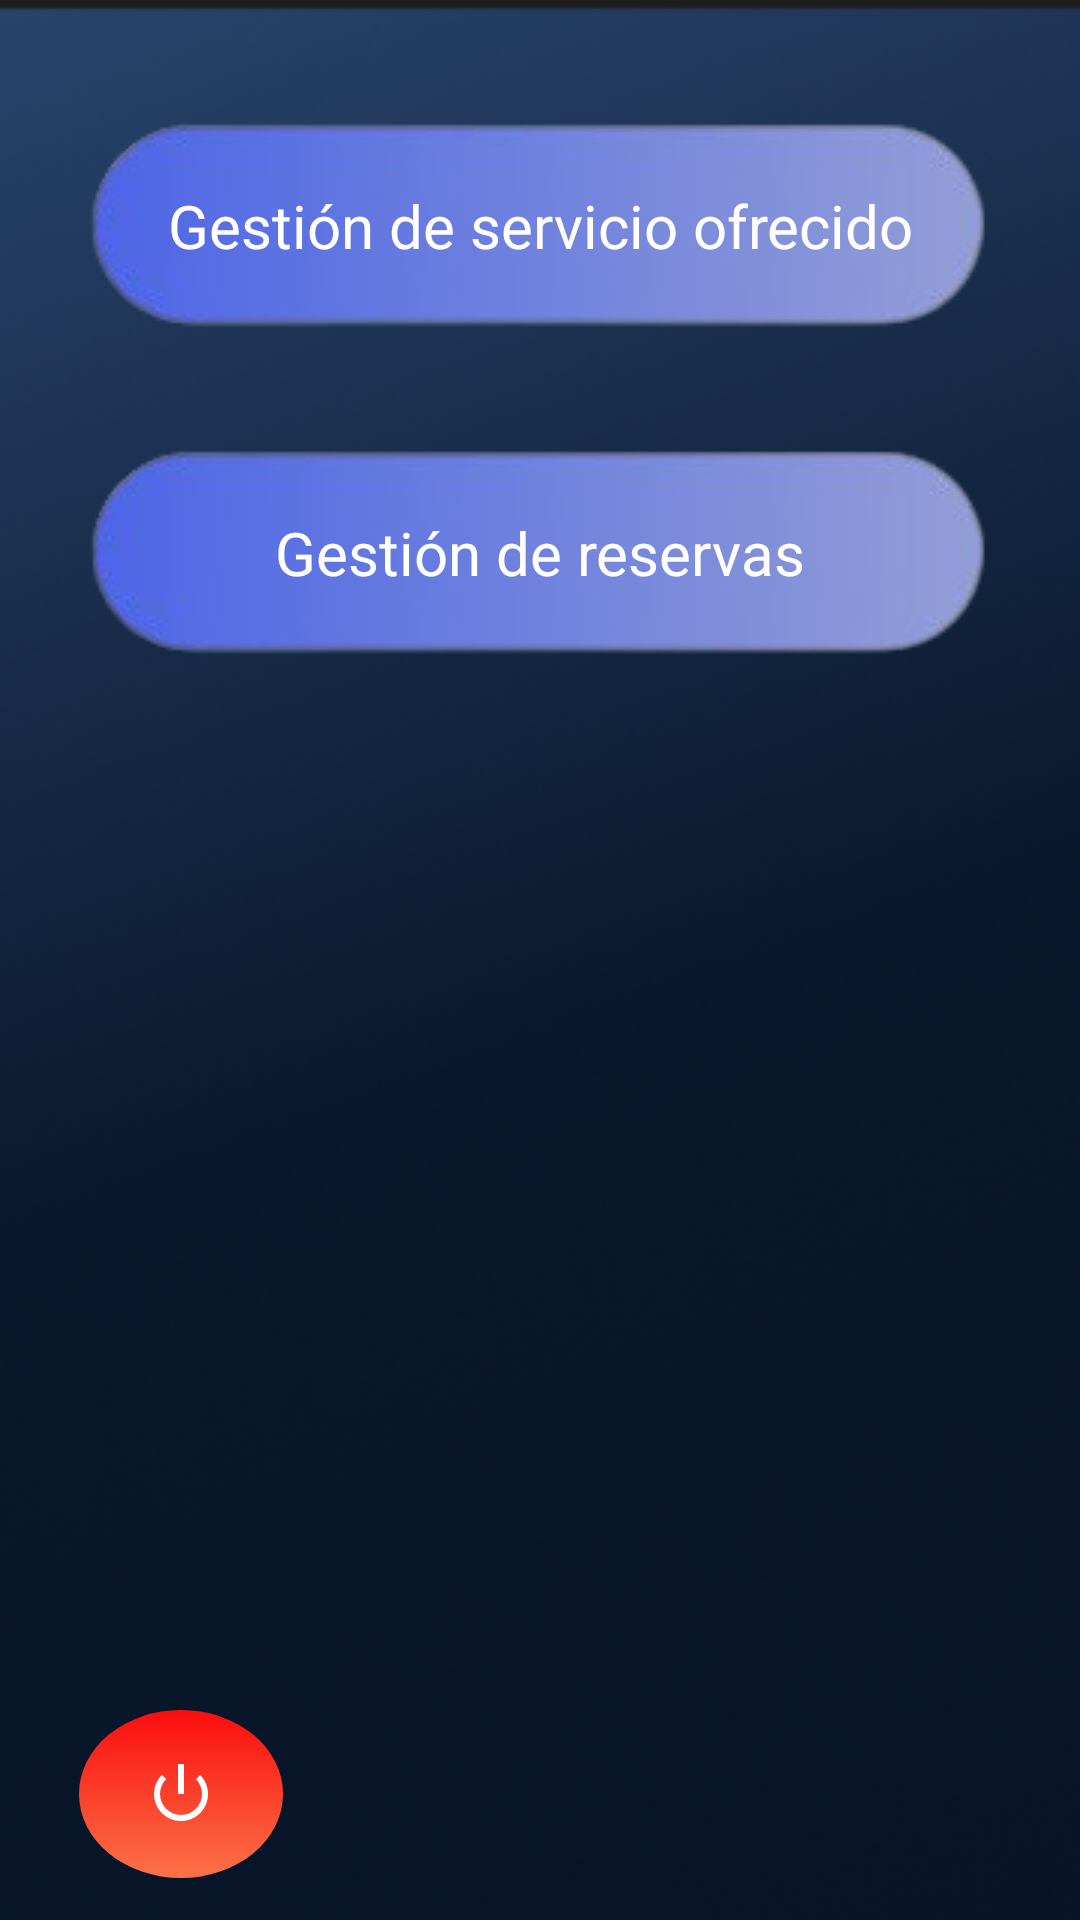

Screen size 1080w x 1920h. Icon name, then its box in pixels as (x1, y1, x2, y2):
lock power off: (79, 1710, 283, 1878)
